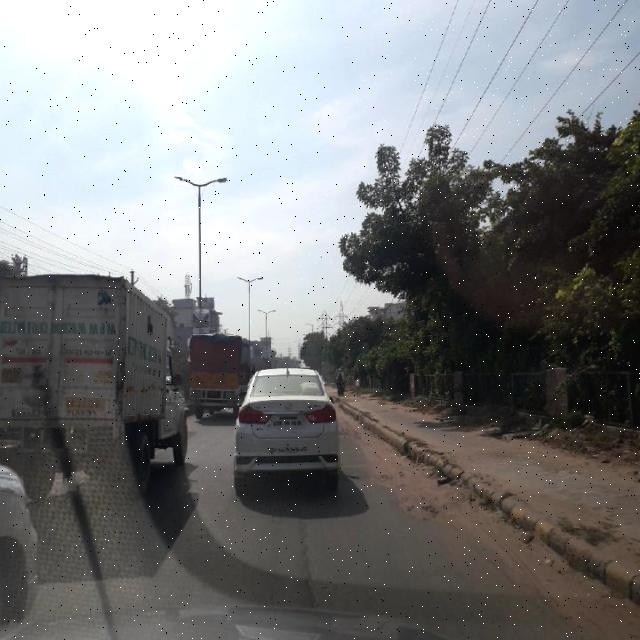D00: (290, 501, 322, 611)
D40: (377, 481, 458, 523)
